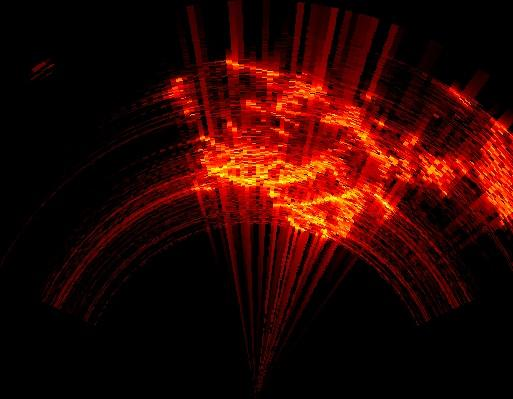shipwreck: (200, 62, 477, 243), (480, 120, 512, 220), (165, 78, 202, 116)
